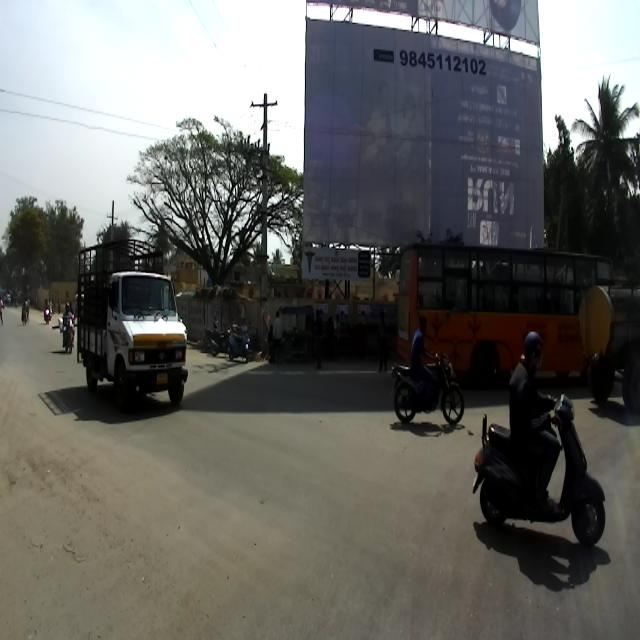motorcycle ahead at: (468, 389, 610, 546), (386, 350, 464, 432)
truck ahead at: (70, 232, 198, 421)
